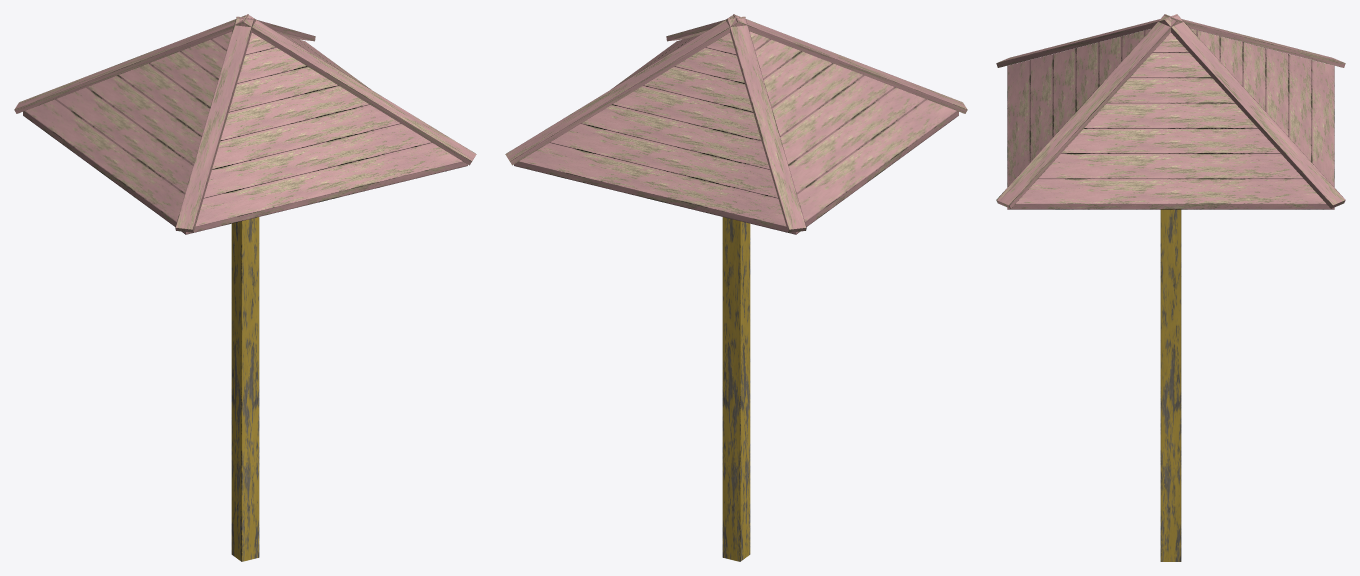
Rendered from playground_gribok_web.glb.
3 views of the same model, side by side, from view 1: azimuth 30°, elevation 25°; view 2: azimuth 150°, elevation 25°; view 3: azimuth 270°, elevation 25° (orthographic).
Visible parts, largest first — view 1: Gribok_Mesh; view 2: Gribok_Mesh; view 3: Gribok_Mesh.
Boxes of the visible parts, x1,y1,x2,y2 form: Gribok_Mesh: [14, 14, 476, 561]; Gribok_Mesh: [505, 14, 967, 561]; Gribok_Mesh: [996, 14, 1345, 561].
Bounding box in the file's own units: 1.71 × 2.92 × 1.71.
3 materials, 3 textured.
